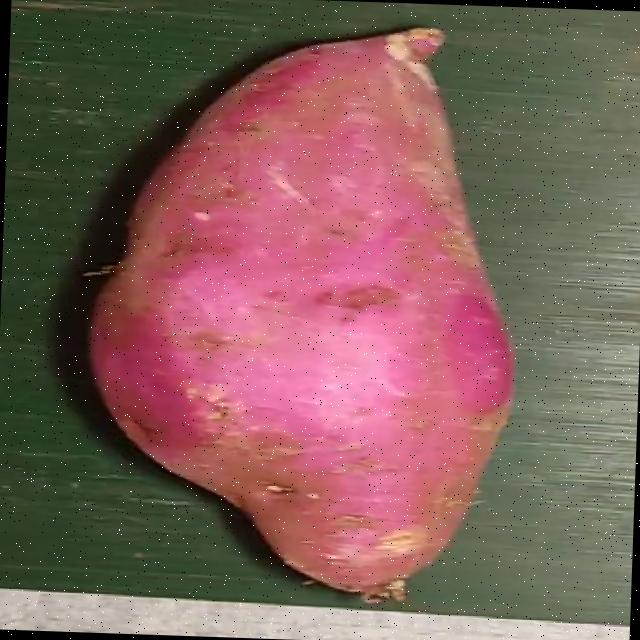Sweet Potato: (86, 26, 515, 603)
